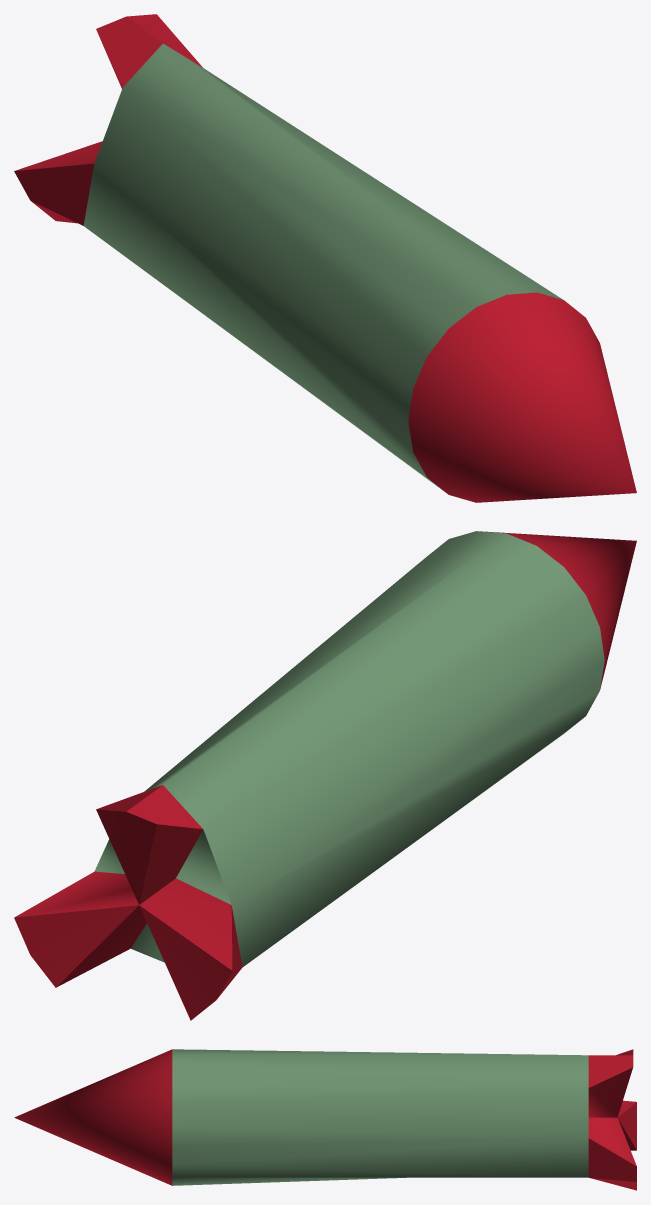
The model's file is unexploded shell.fbx.
The picture shows the model from 3 angles, top to bottom: view 1: azimuth 30°, elevation 25°; view 2: azimuth 150°, elevation 25°; view 3: azimuth 270°, elevation 25°; orthographic projection. The views are drawn at different scales.
Parts seen in each view (by area): view 1: pCylinder1; view 2: pCylinder1; view 3: pCylinder1.
Boxes of the visible parts, bbox=[...] form: pCylinder1: bbox=[14, 14, 636, 502]; pCylinder1: bbox=[14, 531, 636, 1020]; pCylinder1: bbox=[14, 1049, 636, 1190].
Bounding box in the file's own units: 2.22 × 2 × 9.06.
